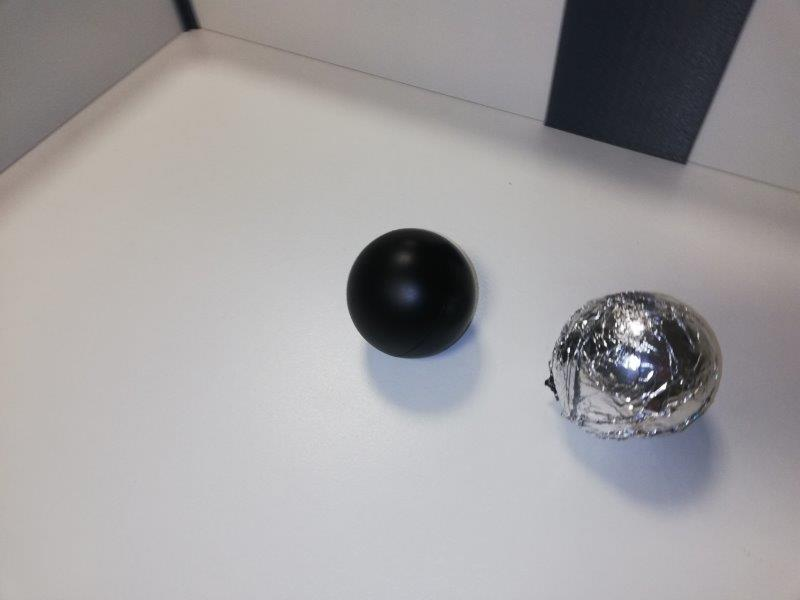bianca: (546, 292, 723, 440)
nera: (343, 228, 478, 361)
